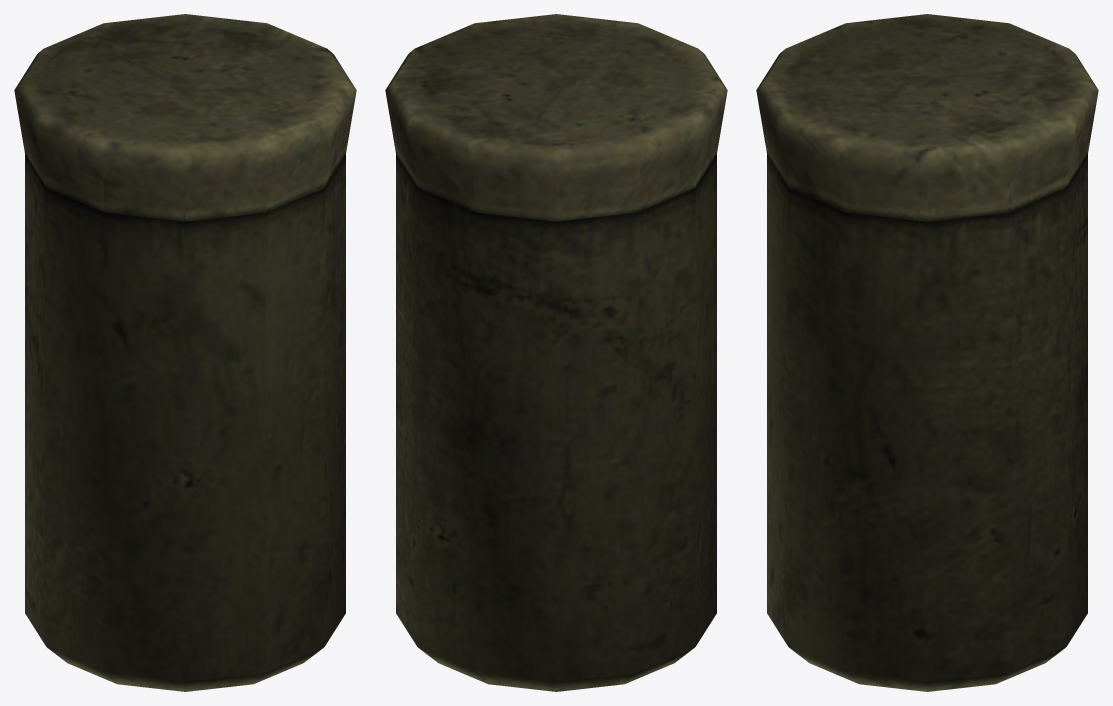
Rendered from tinderbox.dae.
3 views of the same model, side by side, from view 1: azimuth 30°, elevation 25°; view 2: azimuth 150°, elevation 25°; view 3: azimuth 270°, elevation 25° (orthographic).
Parts seen in each view (by area): view 1: tinderbox_mesh; view 2: tinderbox_mesh; view 3: tinderbox_mesh.
Boxes of the visible parts, bbox=[...] form: tinderbox_mesh: bbox=[14, 14, 356, 691]; tinderbox_mesh: bbox=[385, 14, 727, 691]; tinderbox_mesh: bbox=[756, 14, 1098, 691].
Size of the model in its own units: 0.1034 by 0.1837 by 0.1034.
